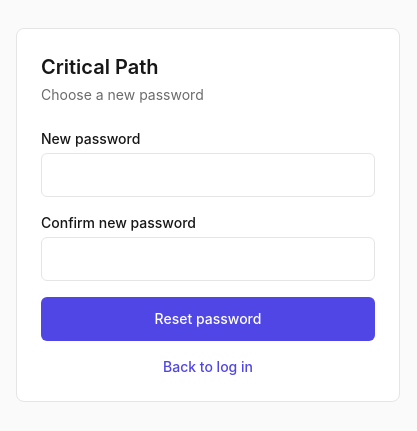
Test case: ResetPassword › puts the length rule on the password field
In the password field labelled "New password": (208, 175) [41,153,375,197], type "short"
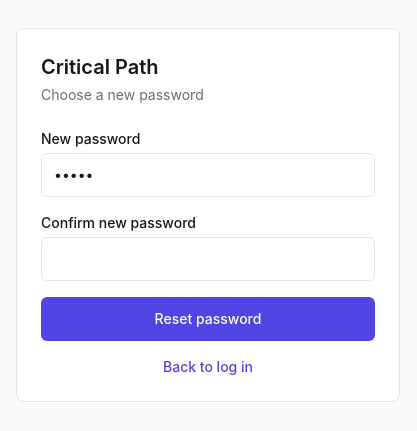
In the password field labelled "Confirm new password": (208, 259) [41,237,375,281], type "short"
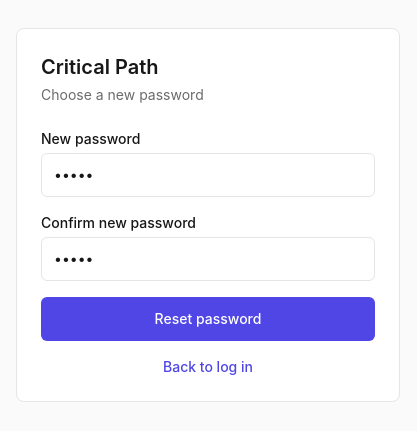
Click the button "Reset password": (208, 319) [41,297,375,341]
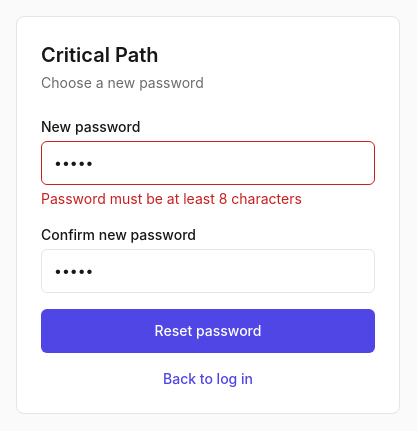
Expected: the text "Password must be at least 8 characters" is shown, [41,190,302,207]
